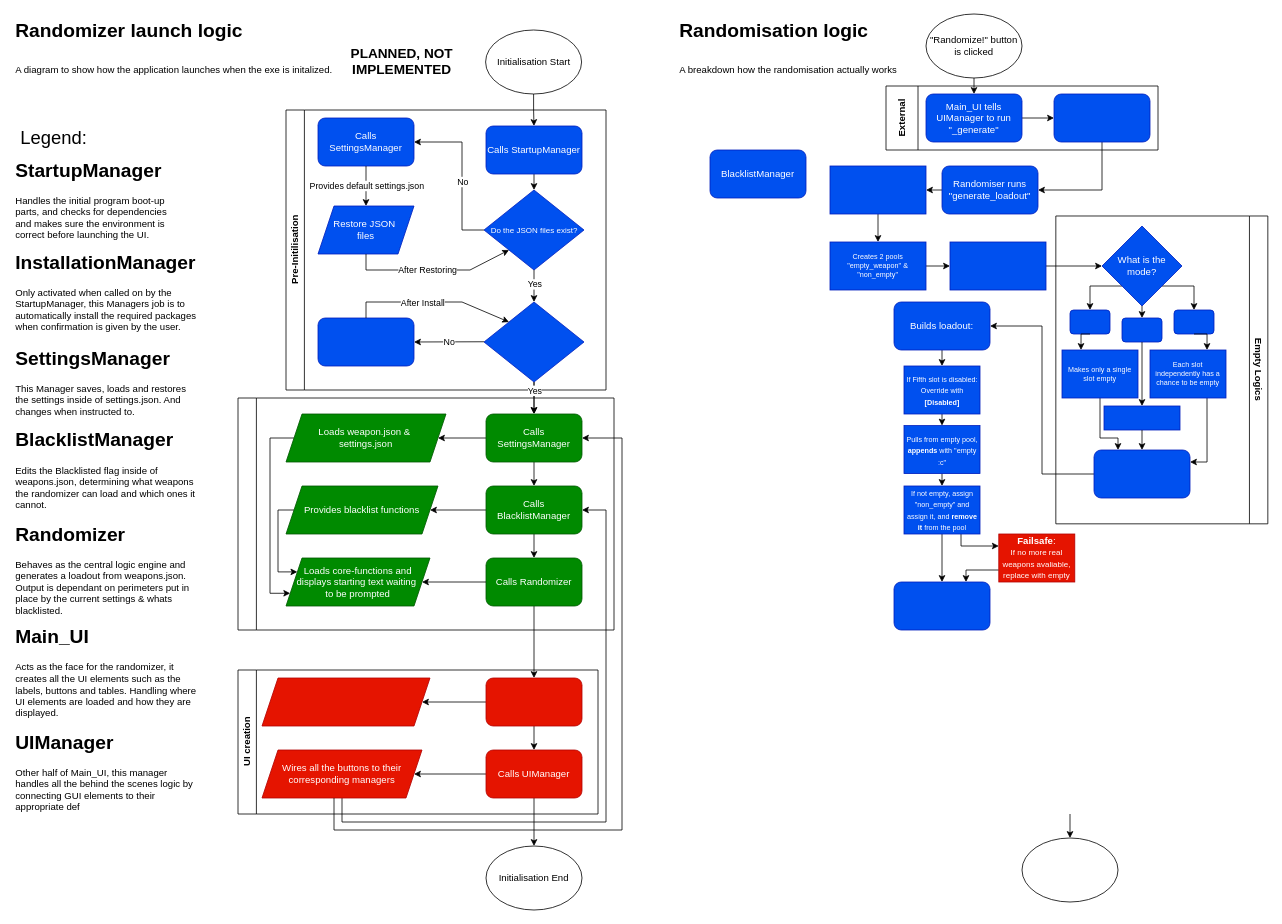
The diagram is 1282 pixels wide and 924 high, and some of its shapes have lost their labels. The centre of each missing label's shape, as x and y in pixels:
Calls InstallationManager: pixel 365 341
Calls Main_UI: pixel 533 701
Complete slot map: pixel 1141 473
Convert to Strings so the UI can display: pixel 941 605
Core Logic: pixel 425 513
Creates a map of the slots that will be empty: pixel 997 265
Creates buttons, labels and tables and displays the starting text: pixel 345 701
Grabs list of weapons from "all_weapons": pixel 877 189
Is Pillow/Tkinter installed?: pixel 533 341
Loadout Displayed: pixel 1069 869
Multi: pixel 1193 321
Off: pixel 1141 329
Single: pixel 1089 321
Skip: pixel 1141 417
UIManager calls Randomiser to run " generate_loadout": pixel 1101 117
